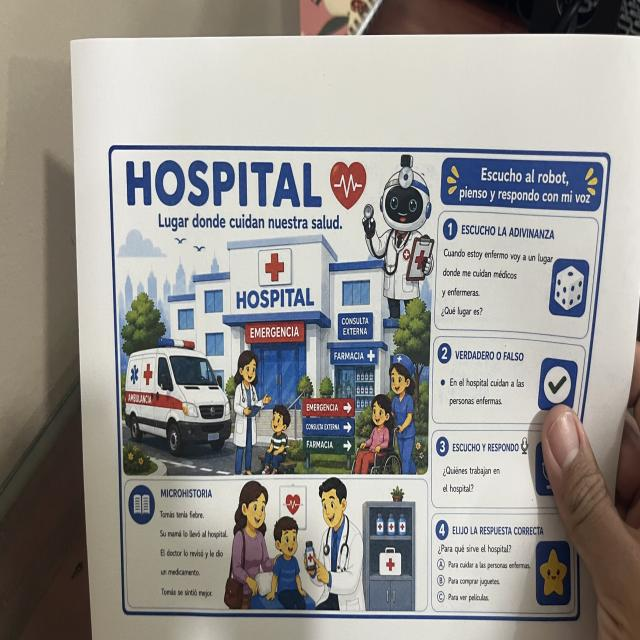hospital: (106, 139, 614, 626)
